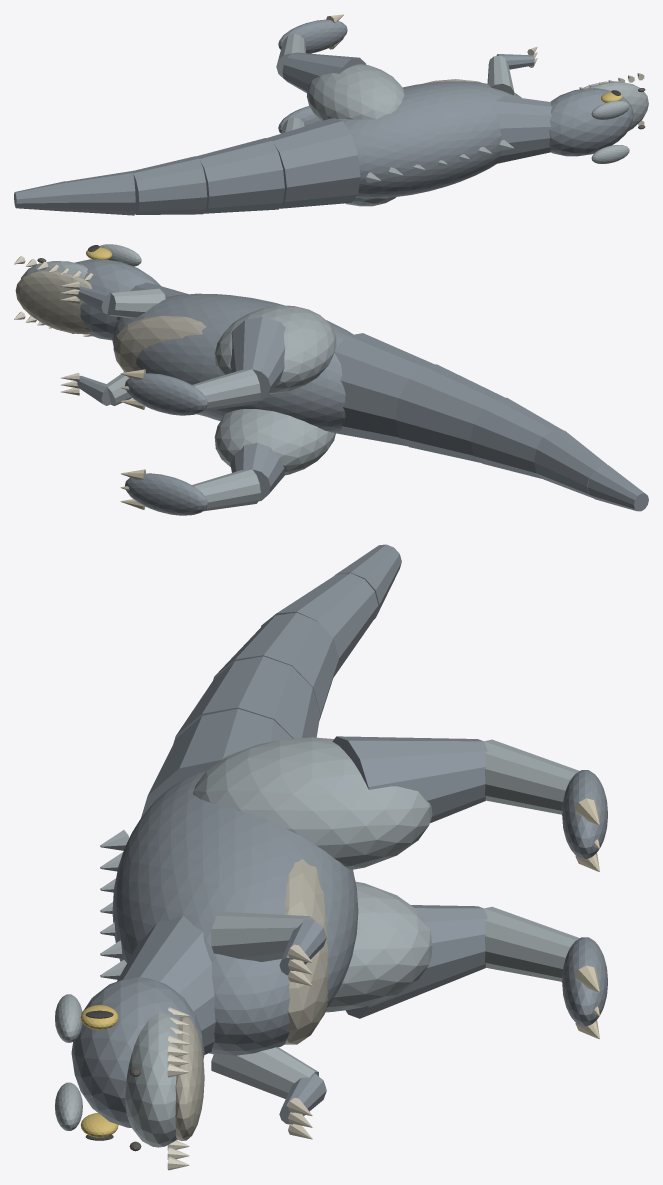
Rendered from Megalosaurus.glb.
3 views of the same model, one above another, from view 1: azimuth 30°, elevation 25°; view 2: azimuth 150°, elevation 25°; view 3: azimuth 270°, elevation 25° (orthographic). The views are drawn at different scales.
Parts seen in each view (by area): view 1: Megalosaurus_000, Megalosaurus_007, Megalosaurus_008, Megalosaurus_034, Megalosaurus_003, Megalosaurus_009, Megalosaurus_002, Megalosaurus_010, Megalosaurus_035, Megalosaurus_037, Megalosaurus_011, Megalosaurus_004 (+7 smaller); view 2: Megalosaurus_000, Megalosaurus_008, Megalosaurus_007, Megalosaurus_012, Megalosaurus_034, Megalosaurus_009, Megalosaurus_005, Megalosaurus_035, Megalosaurus_010, Megalosaurus_003, Megalosaurus_001, Megalosaurus_037 (+11 smaller); view 3: Megalosaurus_000, Megalosaurus_034, Megalosaurus_035, Megalosaurus_003, Megalosaurus_012, Megalosaurus_008, Megalosaurus_002, Megalosaurus_007, Megalosaurus_004, Megalosaurus_013, Megalosaurus_009, Megalosaurus_036 (+13 smaller).
Part boxes in pixels (x1,y1,x2,y2): Megalosaurus_000: [323, 81, 521, 198]; Megalosaurus_007: [267, 118, 360, 208]; Megalosaurus_008: [196, 138, 284, 213]; Megalosaurus_034: [307, 64, 404, 121]; Megalosaurus_003: [549, 88, 633, 156]; Megalosaurus_009: [132, 156, 207, 214]; Megalosaurus_002: [496, 95, 551, 163]; Megalosaurus_010: [66, 171, 135, 215]; Megalosaurus_035: [282, 52, 366, 92]; Megalosaurus_037: [278, 19, 347, 53]; Megalosaurus_011: [14, 181, 68, 211]; Megalosaurus_004: [588, 82, 648, 131]; Megalosaurus_000: [112, 293, 353, 432]; Megalosaurus_008: [395, 364, 505, 462]; Megalosaurus_007: [334, 333, 434, 446]; Megalosaurus_012: [214, 409, 335, 475]; Megalosaurus_034: [214, 305, 336, 393]; Megalosaurus_009: [470, 397, 563, 478]; Megalosaurus_005: [15, 271, 91, 334]; Megalosaurus_035: [230, 316, 285, 401]; Megalosaurus_010: [534, 430, 607, 497]; Megalosaurus_003: [74, 259, 160, 340]; Megalosaurus_001: [113, 315, 206, 416]; Megalosaurus_037: [125, 373, 207, 415]; Megalosaurus_000: [112, 771, 358, 1055]; Megalosaurus_034: [193, 737, 432, 869]; Megalosaurus_035: [332, 736, 487, 823]; Megalosaurus_003: [71, 977, 204, 1127]; Megalosaurus_012: [325, 881, 432, 1012]; Megalosaurus_008: [173, 656, 320, 743]; Megalosaurus_002: [117, 915, 215, 1054]; Megalosaurus_007: [141, 708, 292, 817]; Megalosaurus_004: [125, 1012, 178, 1147]; Megalosaurus_013: [345, 905, 487, 1018]; Megalosaurus_009: [213, 612, 338, 720]; Megalosaurus_036: [484, 739, 579, 814].
Bounding box in the file's own units: 7.45 × 1.69 × 3.09.
